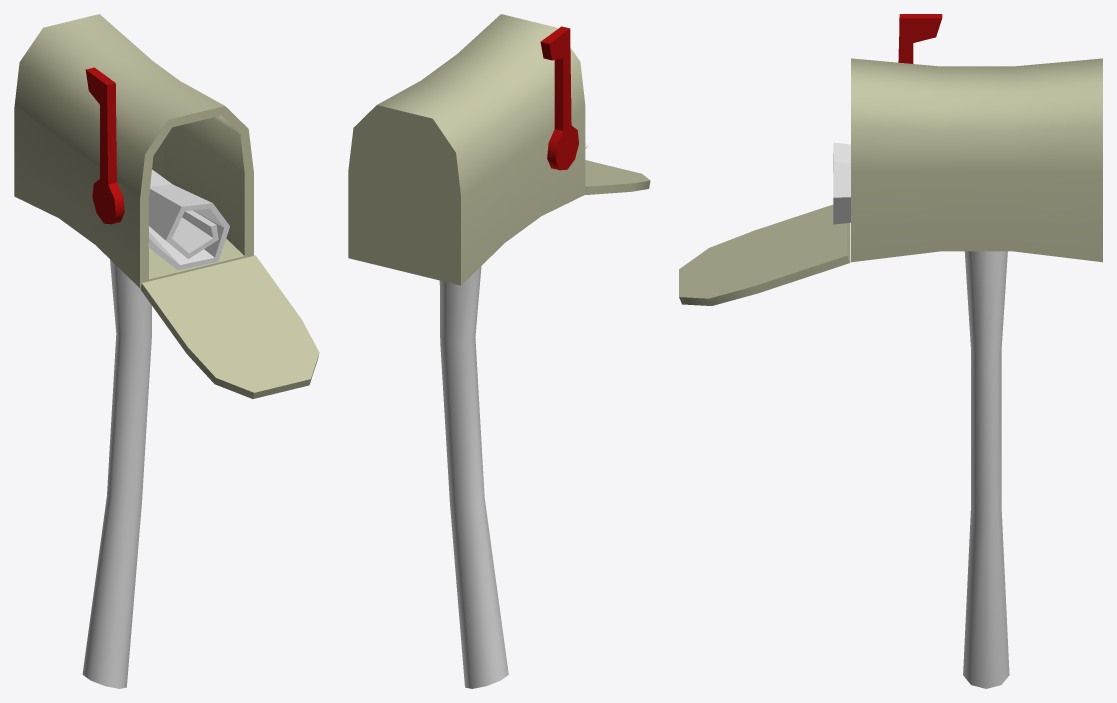
Rendered from Boite_Lettres.FBX.
3 renders of one model, left to right at view 1: azimuth 30°, elevation 25°; view 2: azimuth 150°, elevation 25°; view 3: azimuth 270°, elevation 25°, orthographic.
Visible parts, largest first — view 1: Boite_aux_lettres, Cylinder029, Plane043; view 2: Boite_aux_lettres, Cylinder029; view 3: Boite_aux_lettres, Cylinder029, Plane043.
Part boxes in pixels (x1=…): Boite_aux_lettres: x1=14, y1=14, x2=319, y2=398; Cylinder029: x1=82, y1=259, x2=151, y2=688; Plane043: x1=148, y1=169, x2=229, y2=270; Boite_aux_lettres: x1=348, y1=14, x2=650, y2=285; Cylinder029: x1=439, y1=266, x2=508, y2=688; Boite_aux_lettres: x1=679, y1=14, x2=1102, y2=305; Cylinder029: x1=963, y1=251, x2=1009, y2=688; Plane043: x1=833, y1=142, x2=850, y2=224.
Bounding box in the file's own units: 0.3632 × 1.82 × 1.08.
